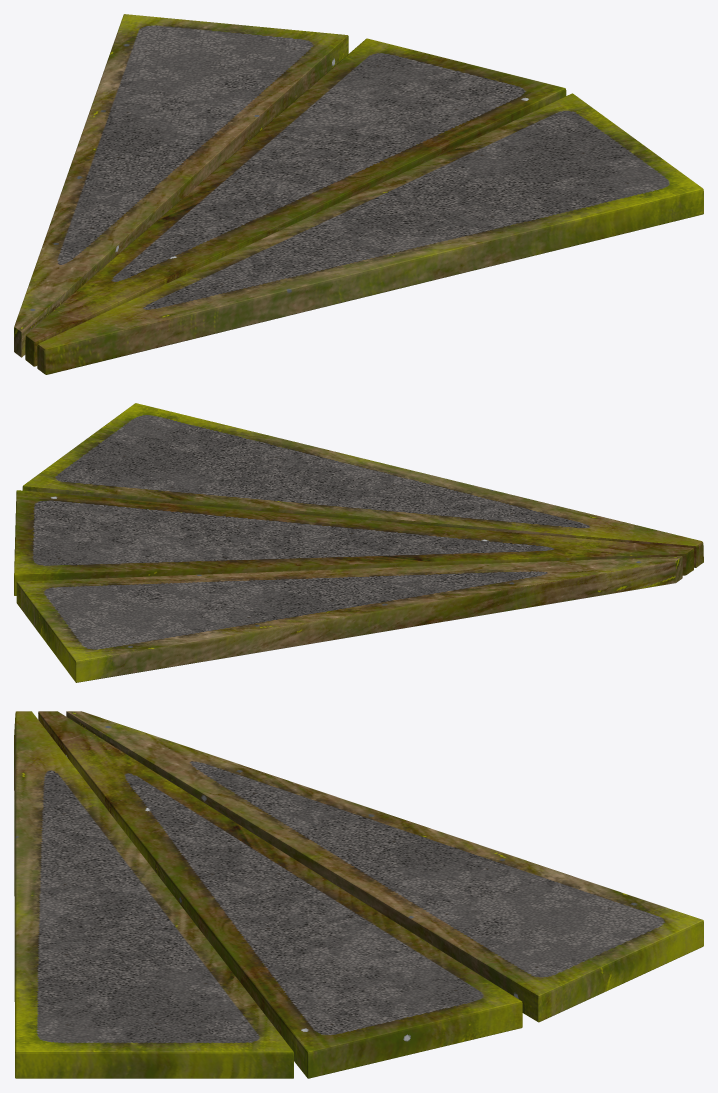
The model's file is PNW Pathway_Curve_54_L_Grip.glb.
3 views of the same model, one above another, from view 1: azimuth 30°, elevation 25°; view 2: azimuth 150°, elevation 25°; view 3: azimuth 270°, elevation 25° (orthographic). The views are drawn at different scales.
Visible parts, largest first — view 1: Curve_54_L_Grip; view 2: Curve_54_L_Grip; view 3: Curve_54_L_Grip.
Part boxes in pixels (x1,y1,x2,y2): Curve_54_L_Grip: (14,14,703,374); Curve_54_L_Grip: (14,403,703,682); Curve_54_L_Grip: (14,711,703,1078).
Size of the model in its own units: 1.52 by 0.0574 by 1.3.
Materials: 1 (1 with a texture image).
